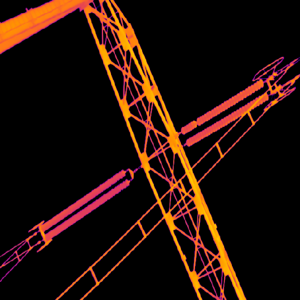insulator: (39, 167, 127, 233), (43, 176, 130, 242), (180, 76, 263, 137), (184, 90, 269, 148)
